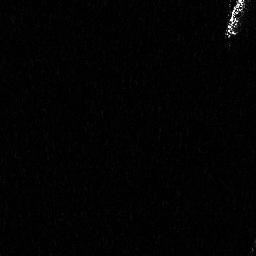ship: (223, 1, 249, 41)
